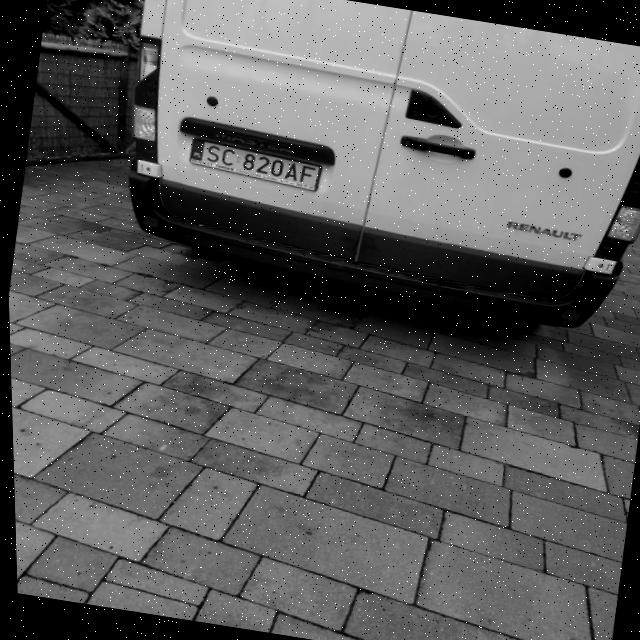license-plates: (189, 141, 320, 191)
